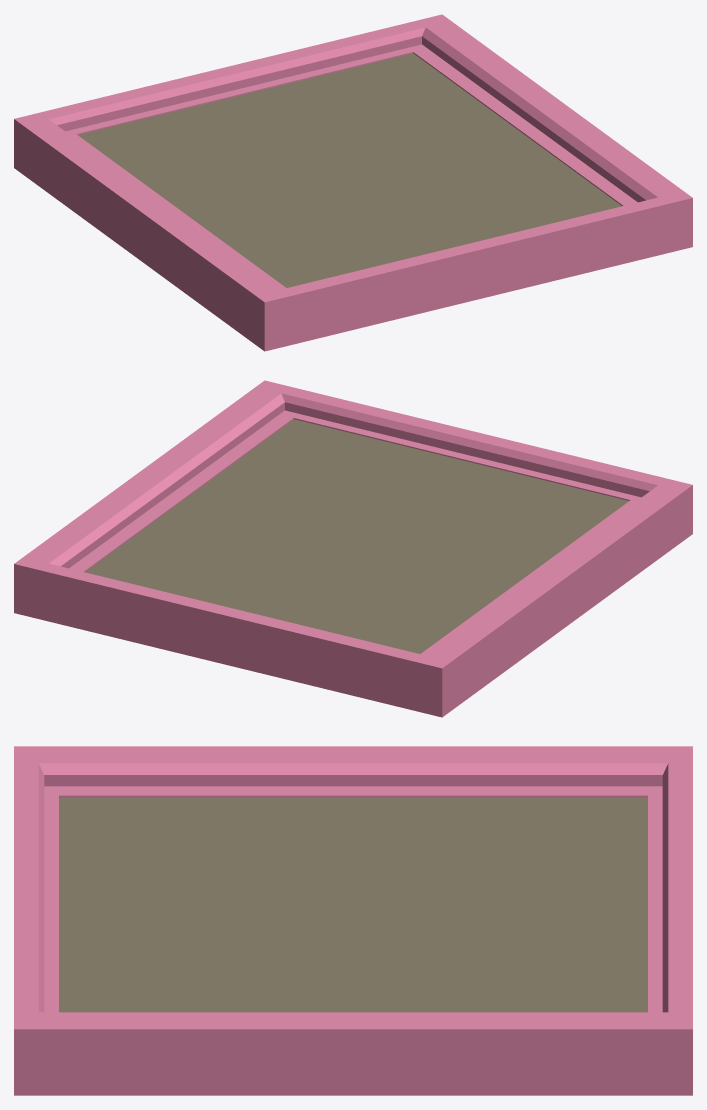
Rendered from mirror.fbx.
3 renders of one model, top to bottom at view 1: azimuth 30°, elevation 25°; view 2: azimuth 150°, elevation 25°; view 3: azimuth 270°, elevation 25°, orthographic. The views are drawn at different scales.
Parts seen in each view (by area): view 1: mirror; view 2: mirror; view 3: mirror.
Boxes of the visible parts, x1=… form: mirror: x1=14, y1=14, x2=692, y2=351; mirror: x1=14, y1=380, x2=692, y2=717; mirror: x1=14, y1=746, x2=692, y2=1095.
Bounding box in the file's own units: 268 × 29.39 × 272.
